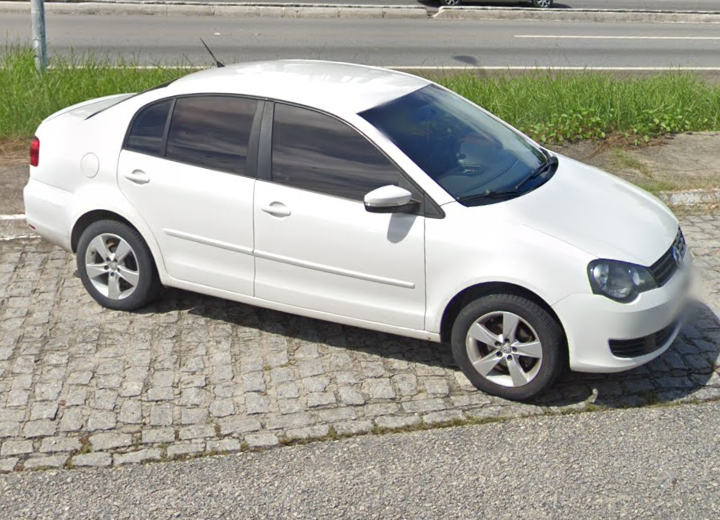car: (22, 37, 694, 404)
